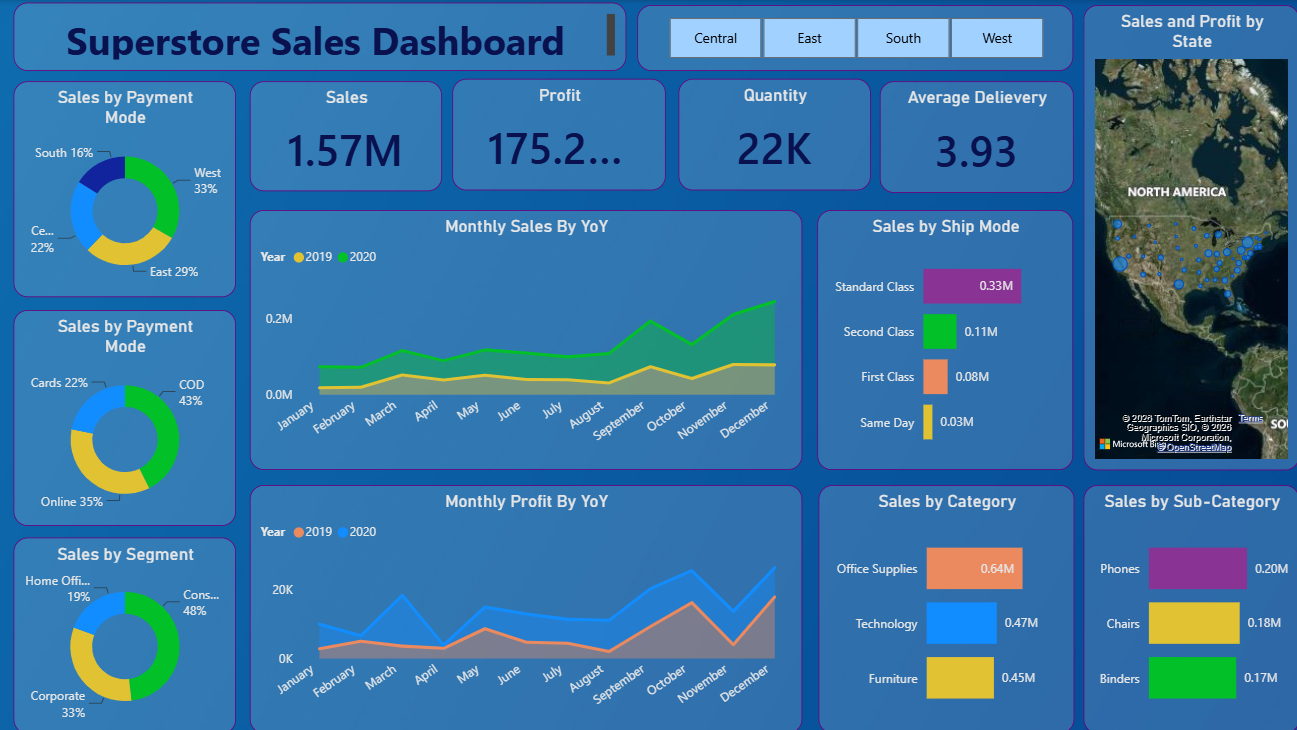

Layout of this report page (visuals, bound fields, positions):
{"tool":"powerbi","page":{"name":"Sales_Dashboard","canvas":[1280,720],"ordinal":0},"visuals":[{"type":"clusteredBarChart","title":"Sales by Category","fields":{"Category":["SuperStore_Sales_Dataset.Category"],"Y":["Sum(SuperStore_Sales_Dataset.Sales)"]},"box":[807.4,476.1,251.5,244.2],"z":0},{"type":"clusteredBarChart","title":"Sales by Sub-Category","fields":{"Category":["SuperStore_Sales_Dataset.Sub-Category"],"Y":["Sum(SuperStore_Sales_Dataset.Sales)"]},"box":[1067.5,476.1,212.3,244.2],"z":1000},{"type":"clusteredBarChart","title":"Sales by Ship Mode","fields":{"Category":["SuperStore_Sales_Dataset.Ship Mode"],"Y":["Sum(SuperStore_Sales_Dataset.Sales)"]},"box":[806.1,206.1,251.5,255.2],"z":2000},{"type":"stackedAreaChart","title":"Monthly Sales By YoY","fields":{"Y":["Sum(SuperStore_Sales_Dataset.Sales)"],"Series":["SuperStore_Sales_Dataset.Order Date.Variation.Date Hierarchy.Year"],"Category":["SuperStore_Sales_Dataset.Order Date.Variation.Date Hierarchy.Month","SuperStore_Sales_Dataset.Order Date.Variation.Date Hierarchy.Day"]},"box":[249.1,206.1,542.3,255.2],"z":3000},{"type":"stackedAreaChart","title":"Monthly Profit By YoY","fields":{"Series":["SuperStore_Sales_Dataset.Order Date.Variation.Date Hierarchy.Year"],"Category":["SuperStore_Sales_Dataset.Order Date.Variation.Date Hierarchy.Month","SuperStore_Sales_Dataset.Order Date.Variation.Date Hierarchy.Day"],"Y":["Sum(SuperStore_Sales_Dataset.Profit)"]},"box":[249.1,476.1,542.3,244.2],"z":4000},{"type":"map","title":"Sales and Profit by State","fields":{"Category":["SuperStore_Sales_Dataset.State"],"Size":["Sum(SuperStore_Sales_Dataset.Sales)"]},"box":[1067.5,4.9,212.3,456.4],"z":5000},{"type":"donutChart","title":"Sales by Segment","fields":{"Category":["SuperStore_Sales_Dataset.Segment"],"Y":["Sum(SuperStore_Sales_Dataset.Sales)"]},"box":[17.2,527.6,218.4,192.6],"z":6000},{"type":"donutChart","title":"Sales by Payment Mode","fields":{"Category":["SuperStore_Sales_Dataset.Payment Mode"],"Y":["Sum(SuperStore_Sales_Dataset.Sales)"]},"box":[17.2,304.3,218.4,212.3],"z":7000},{"type":"slicer","fields":{"Values":["SuperStore_Sales_Dataset.Region"]},"box":[629.5,4.9,428.2,65],"z":8000},{"type":"textbox","box":[17.2,2.5,601.2,67.5],"z":9000},{"type":"cardVisual","title":"Sales","fields":{"Data":["Sum(SuperStore_Sales_Dataset.Sales)"]},"box":[249.1,79.8,189,108],"z":10000},{"type":"cardVisual","title":"Quantity","fields":{"Data":["Sum(SuperStore_Sales_Dataset.Quantity)"]},"box":[669.9,77.3,189,109.2],"z":11000},{"type":"cardVisual","title":"Profit","fields":{"Data":["Sum(SuperStore_Sales_Dataset.Profit)"]},"box":[447.9,77.3,209.8,109.2],"z":12000},{"type":"cardVisual","title":"Average Delievery","fields":{"Data":["Avg(SuperStore_Sales_Dataset.Avg_Delievery)"]},"box":[867.5,79.8,190.2,109.2],"z":13000},{"type":"donutChart","title":"Sales by Payment Mode","fields":{"Category":["SuperStore_Sales_Dataset.Region"],"Y":["Sum(SuperStore_Sales_Dataset.Sales)"]},"box":[17.2,79.8,218.4,212.3],"z":14000}]}

Visuals, with their boxes in screenshot pixels (x1, y1, x2, y2), scaled from the page's 1280x720 canvas onto the 1297x730 screenshot:
"Sales by Category" clusteredBarChart: [left=818, top=483, right=1073, bottom=729]
"Sales by Sub-Category" clusteredBarChart: [left=1082, top=483, right=1296, bottom=729]
"Sales by Ship Mode" clusteredBarChart: [left=817, top=209, right=1072, bottom=468]
"Monthly Sales By YoY" stackedAreaChart: [left=252, top=209, right=802, bottom=468]
"Monthly Profit By YoY" stackedAreaChart: [left=252, top=483, right=802, bottom=729]
"Sales and Profit by State" map: [left=1082, top=5, right=1296, bottom=468]
"Sales by Segment" donutChart: [left=17, top=535, right=239, bottom=729]
"Sales by Payment Mode" donutChart: [left=17, top=309, right=239, bottom=524]
slicer - SuperStore_Sales_Dataset.Region: [left=638, top=5, right=1072, bottom=71]
textbox: [left=17, top=3, right=627, bottom=71]
"Sales" cardVisual: [left=252, top=81, right=444, bottom=190]
"Quantity" cardVisual: [left=679, top=78, right=870, bottom=189]
"Profit" cardVisual: [left=454, top=78, right=666, bottom=189]
"Average Delievery" cardVisual: [left=879, top=81, right=1072, bottom=192]
"Sales by Payment Mode" donutChart: [left=17, top=81, right=239, bottom=296]
